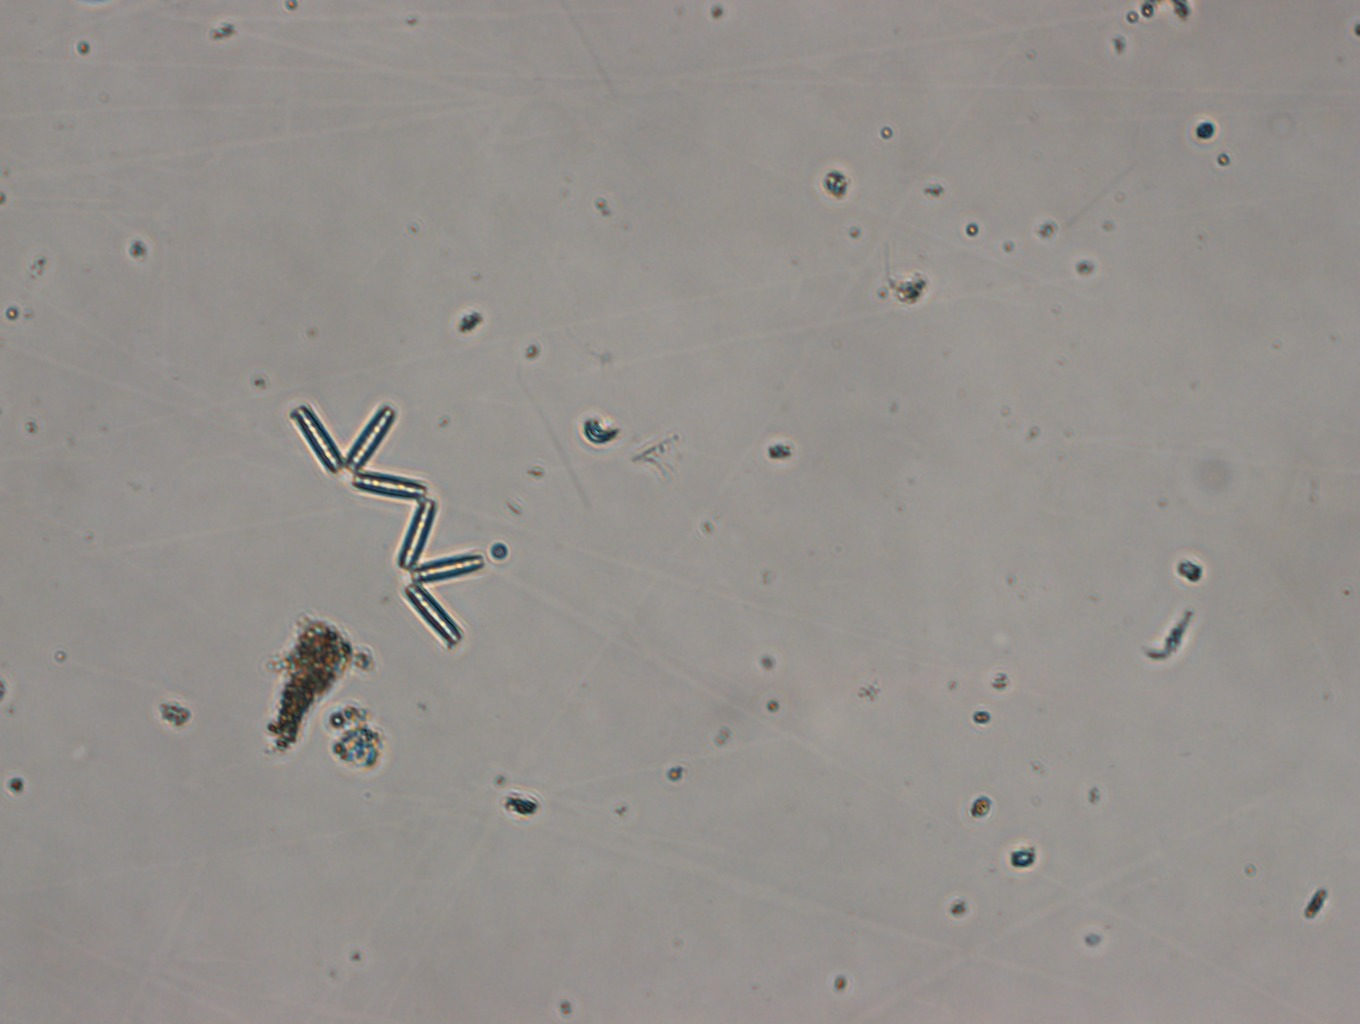thalassionema nitzschioides: (291, 403, 488, 646)
